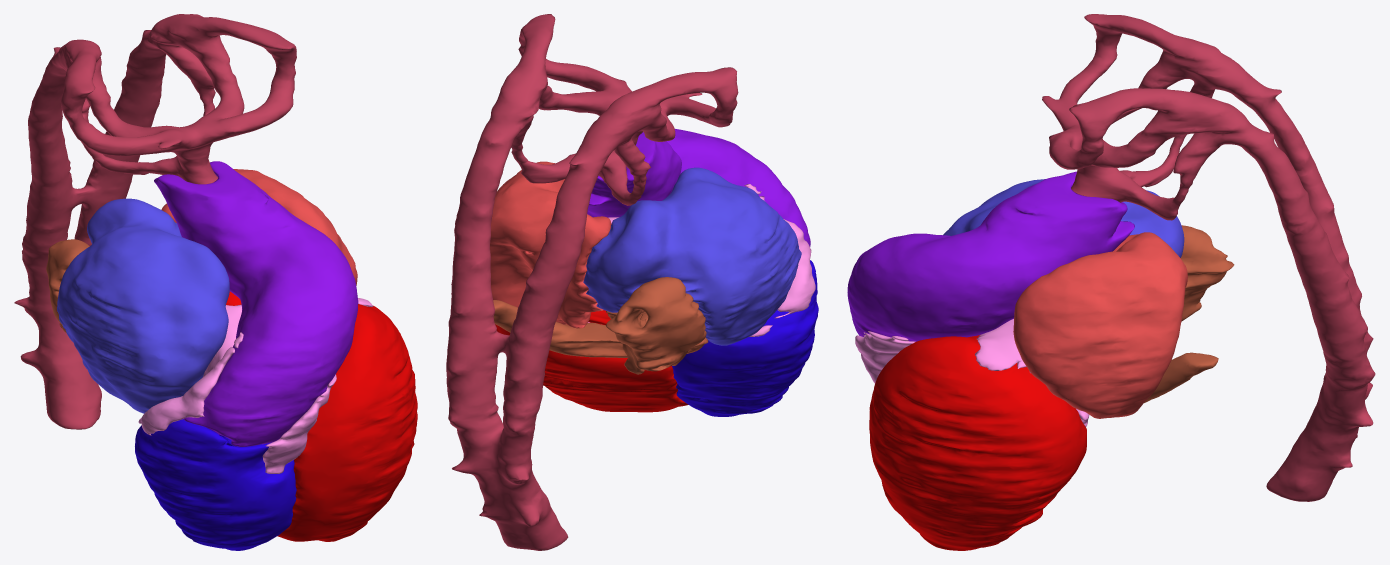
The model's file is CS14-N925-heart.glb.
3 renders of one model, left to right at view 1: azimuth 30°, elevation 25°; view 2: azimuth 150°, elevation 25°; view 3: azimuth 270°, elevation 25°, orthographic. The views are drawn at different scales.
Parts seen in each view (by area): view 1: N925_aorta_sm_dec, N925_oft_sm_dec, N925_right_atrium_sm_dec, N925_left_ventricle_sm_dec, N925_right-ventricle_sm_dec, N925_outside_tissue_sm_dec, N925_left-atrium_sm_dec, N925-vena_cava_sm_dec; view 2: N925_aorta_sm_dec, N925_right_atrium_sm_dec, N925_right-ventricle_sm_dec, N925_left-atrium_sm_dec, N925_oft_sm_dec, N925-vena_cava_sm_dec, N925_left_ventricle_sm_dec, N925_sinus_venosus_sm_dec, N925_outside_tissue_sm_dec; view 3: N925_aorta_sm_dec, N925_left_ventricle_sm_dec, N925_oft_sm_dec, N925_left-atrium_sm_dec, N925_outside_tissue_sm_dec, N925_right_atrium_sm_dec, N925-vena_cava_sm_dec, N925_sinus_venosus_sm_dec.
Boxes of the visible parts, x1=… form: N925_aorta_sm_dec: x1=14, y1=14, x2=296, y2=429; N925_oft_sm_dec: x1=154, y1=161, x2=358, y2=446; N925_right_atrium_sm_dec: x1=57, y1=198, x2=229, y2=413; N925_left_ventricle_sm_dec: x1=226, y1=291, x2=417, y2=541; N925_right-ventricle_sm_dec: x1=135, y1=419, x2=296, y2=550; N925_outside_tissue_sm_dec: x1=138, y1=298, x2=373, y2=473; N925_left-atrium_sm_dec: x1=161, y1=169, x2=357, y2=285; N925-vena_cava_sm_dec: x1=46, y1=239, x2=89, y2=332; N925_aorta_sm_dec: x1=446, y1=14, x2=738, y2=550; N925_right_atrium_sm_dec: x1=583, y1=167, x2=801, y2=345; N925_right-ventricle_sm_dec: x1=672, y1=260, x2=818, y2=416; N925_left-atrium_sm_dec: x1=490, y1=161, x2=611, y2=328; N925_oft_sm_dec: x1=587, y1=129, x2=810, y2=246; N925-vena_cava_sm_dec: x1=606, y1=277, x2=706, y2=374; N925_left_ventricle_sm_dec: x1=495, y1=310, x2=688, y2=412; N925_sinus_venosus_sm_dec: x1=493, y1=300, x2=708, y2=357; N925_outside_tissue_sm_dec: x1=588, y1=184, x2=815, y2=336; N925_aorta_sm_dec: x1=1042, y1=14, x2=1375, y2=501; N925_left_ventricle_sm_dec: x1=869, y1=335, x2=1086, y2=550; N925_oft_sm_dec: x1=847, y1=171, x2=1134, y2=341; N925_left-atrium_sm_dec: x1=1013, y1=232, x2=1187, y2=418; N925_outside_tissue_sm_dec: x1=855, y1=319, x2=1089, y2=426; N925_right_atrium_sm_dec: x1=943, y1=179, x2=1184, y2=257; N925-vena_cava_sm_dec: x1=1180, y1=225, x2=1234, y2=321; N925_sinus_venosus_sm_dec: x1=1144, y1=352, x2=1218, y2=402.
Bounding box in the file's own units: 298 × 431 × 459.
